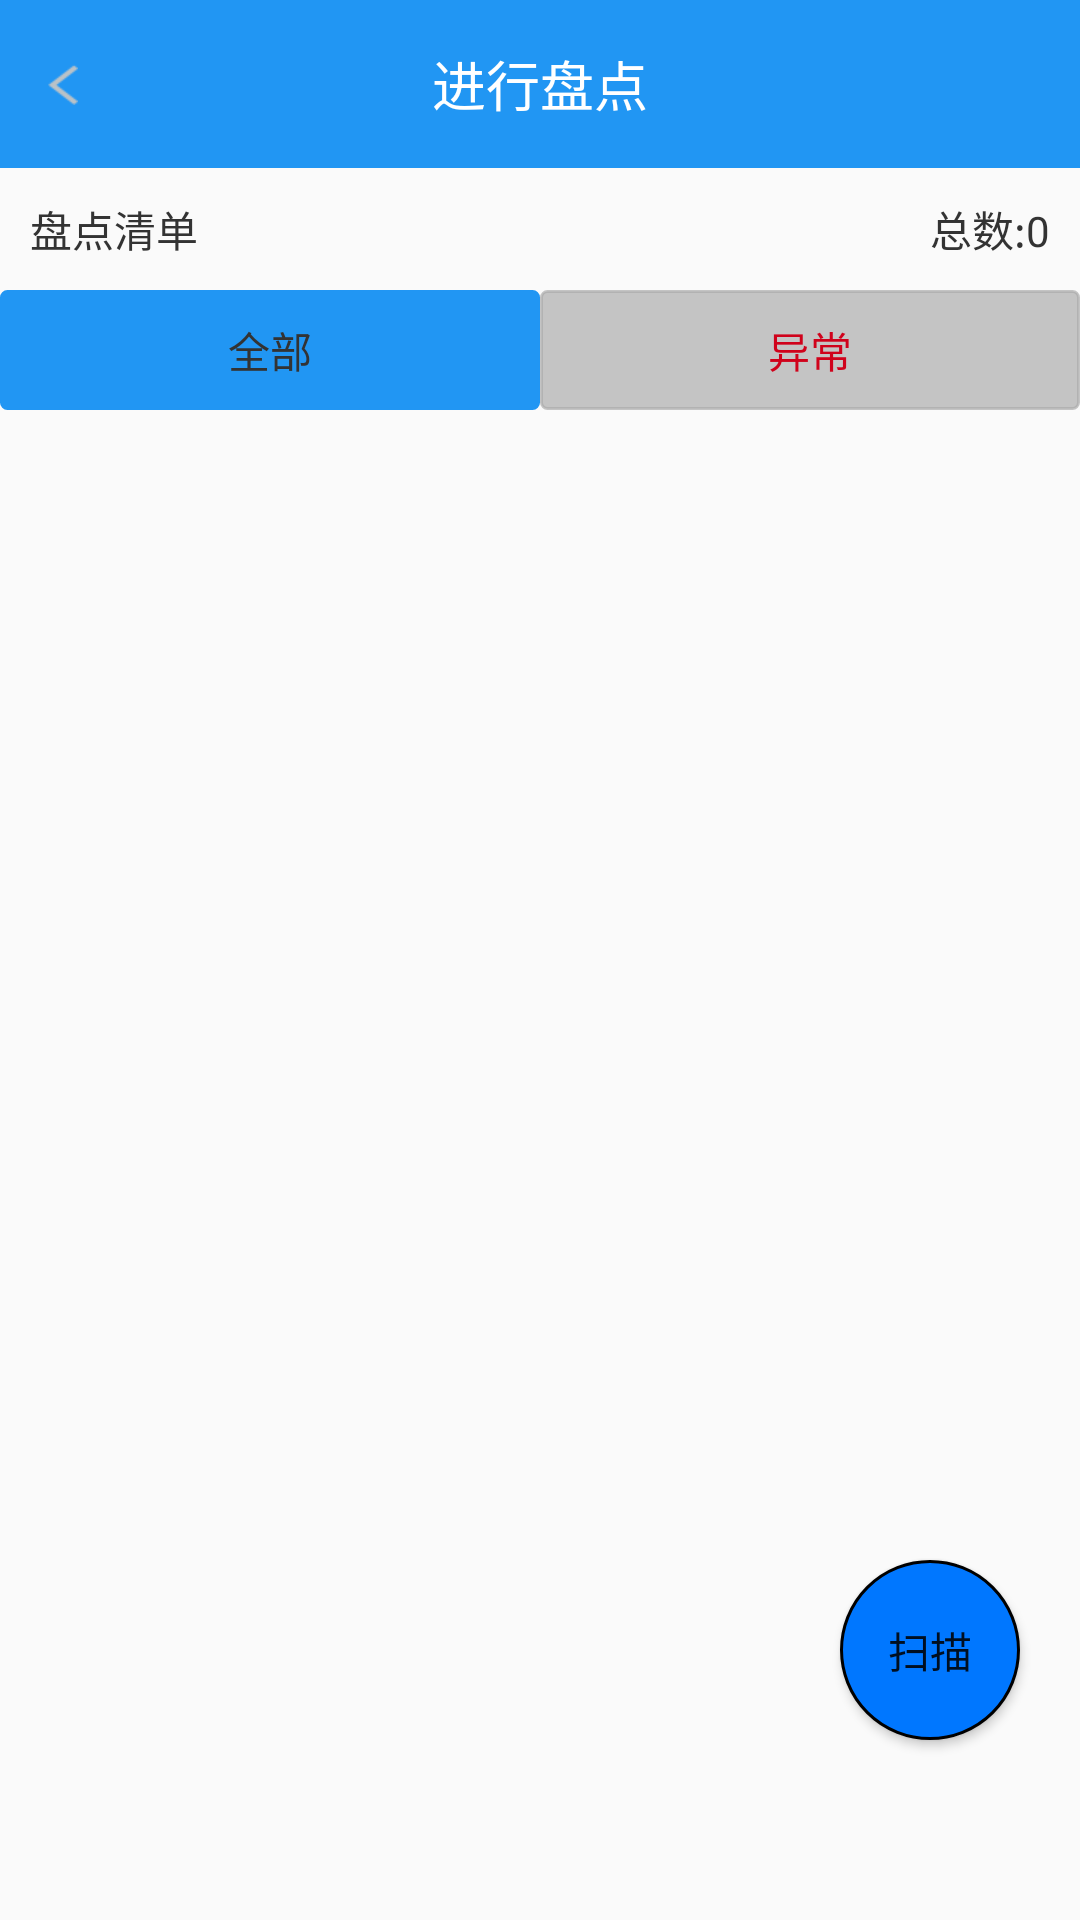

Screen size 1080px×1920px. Icon name, then its box in pixels as bbox(x1, y1, x2, y2):
arrow left: bbox(48, 65, 78, 105)
